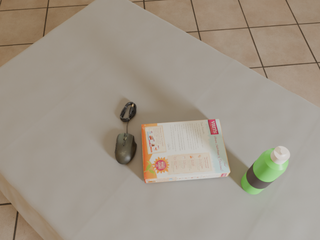bottle: (241, 146, 290, 194)
box: (142, 119, 230, 183)
mouse: (115, 133, 137, 164)
